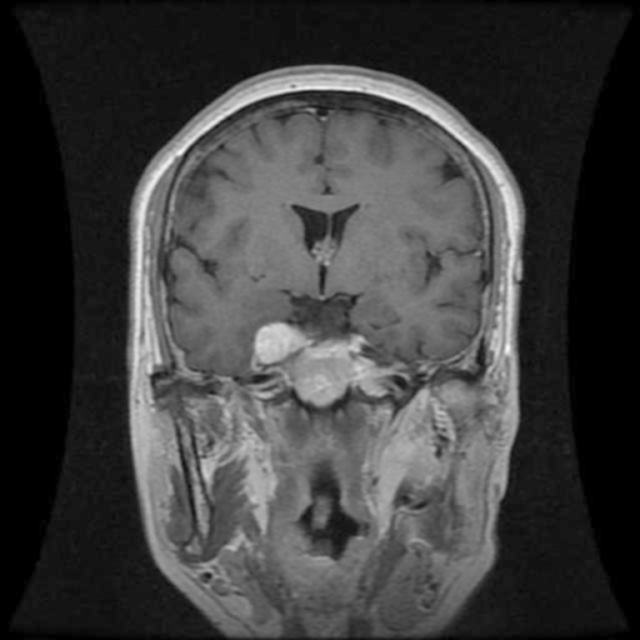meningioma tumor: (246, 315, 322, 374)
